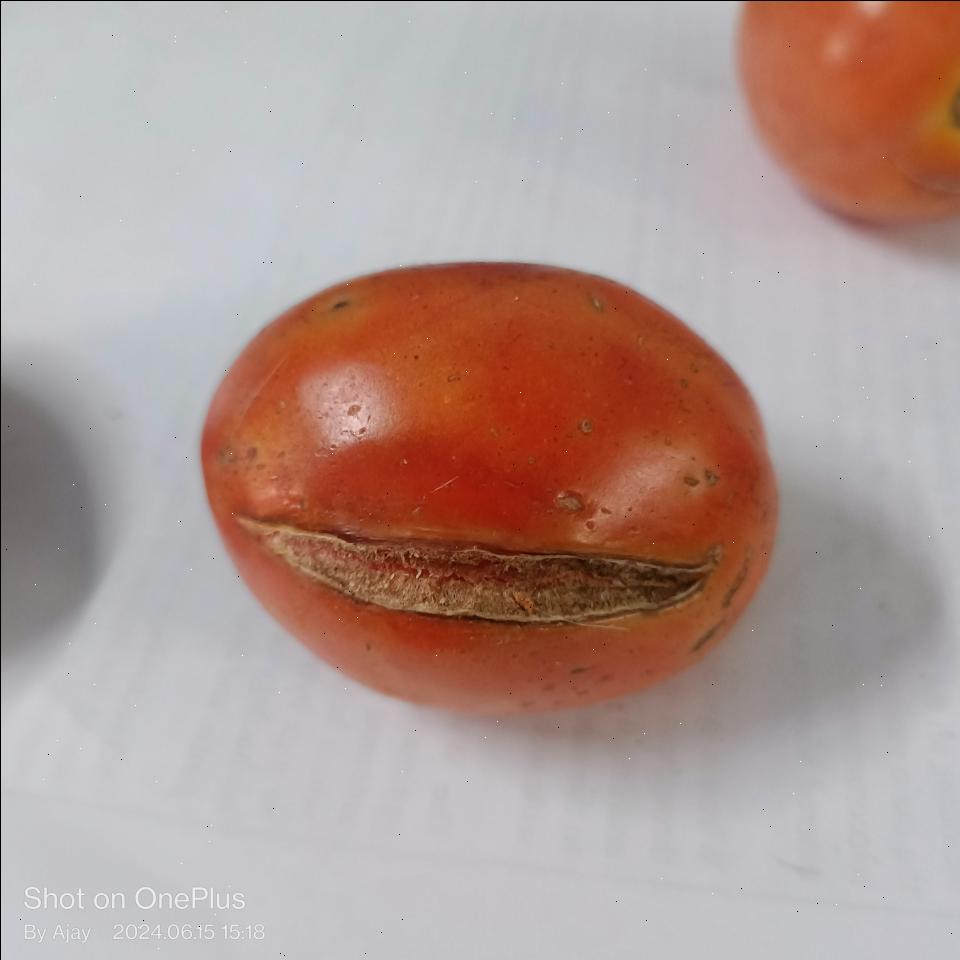Cracking: (267, 516, 721, 622)
